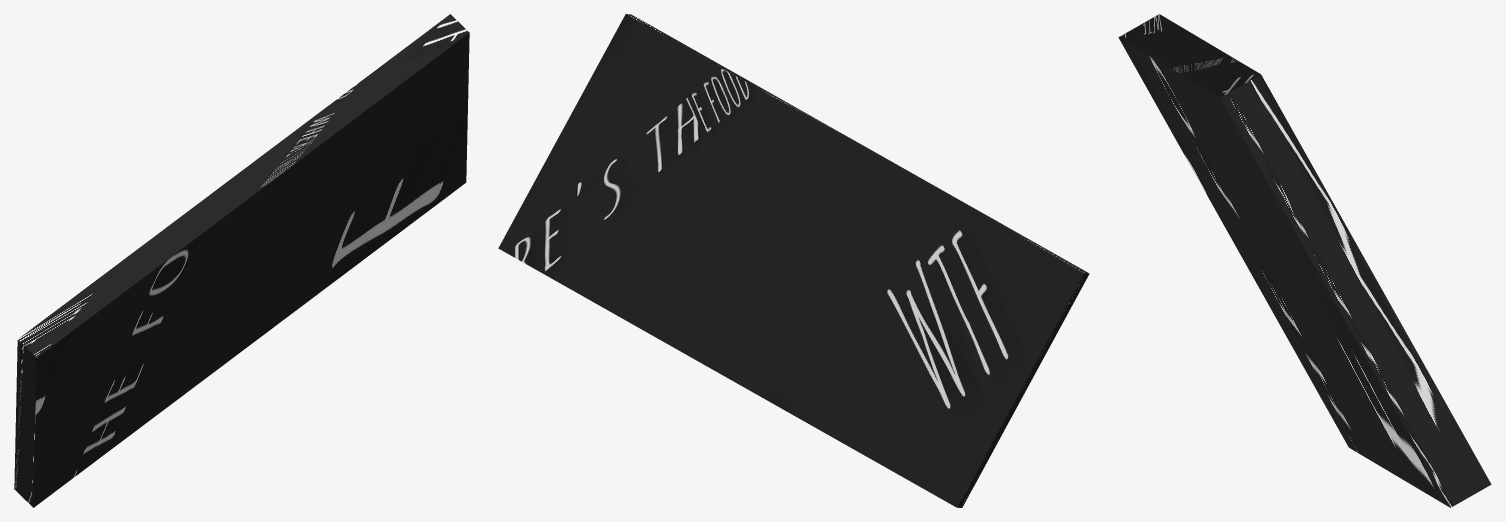
3 views of the same model, side by side, from view 1: azimuth 30°, elevation 25°; view 2: azimuth 150°, elevation 25°; view 3: azimuth 270°, elevation 25° (orthographic). The views are drawn at different scales.
Parts seen in each view (by area): view 1: Cube; view 2: Cube; view 3: Cube.
Part boxes in pixels (x1,y1,x2,y2): Cube: (14, 14, 469, 507); Cube: (498, 14, 1089, 507); Cube: (1118, 14, 1491, 507).
Size of the model in its own units: 38.64 by 28.74 by 14.19.
1 material, 1 textured.
